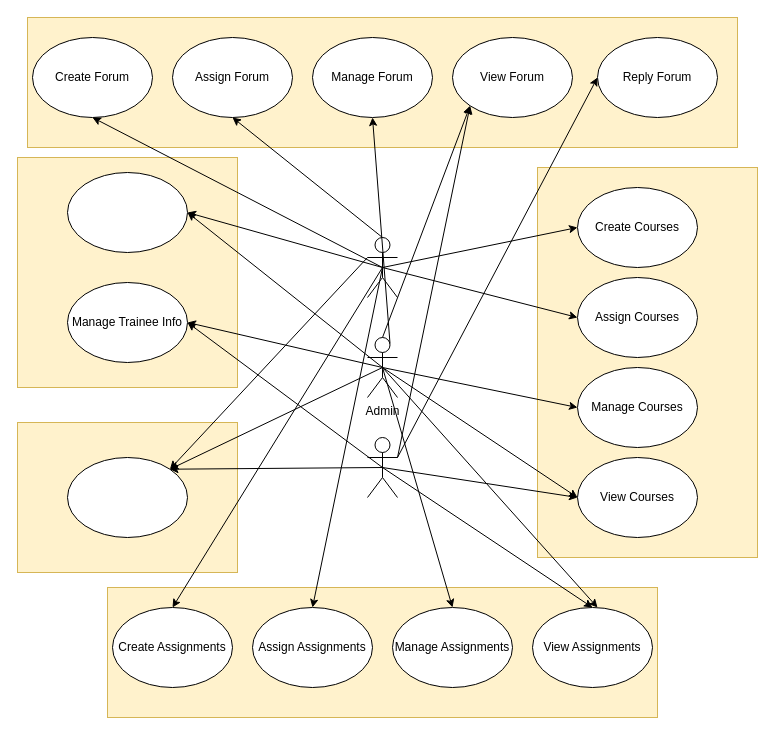
This 775x735 diagram has some shape labels left out. Here are the shapes that lost their labels. From the top down, the box of each, then its label:
(66, 172, 188, 252): Manage Trainer Info
(366, 236, 398, 298): Trainer
(366, 436, 398, 498): Trainee
(66, 456, 188, 538): Create Inbox
